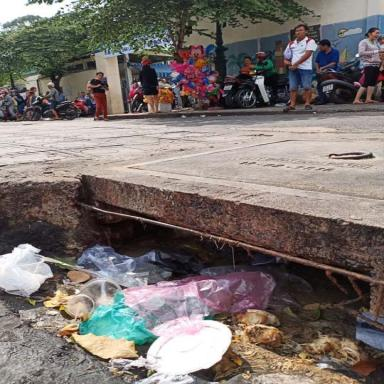plasticbag: (45, 254, 294, 375), (0, 243, 53, 295)
